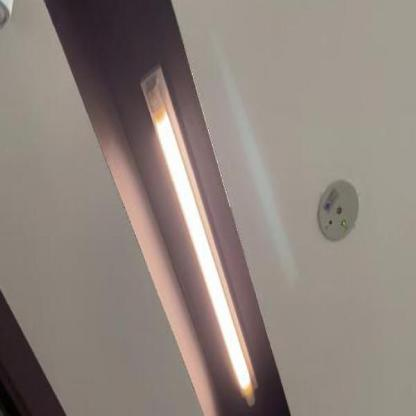light_on: (132, 53, 261, 413)
